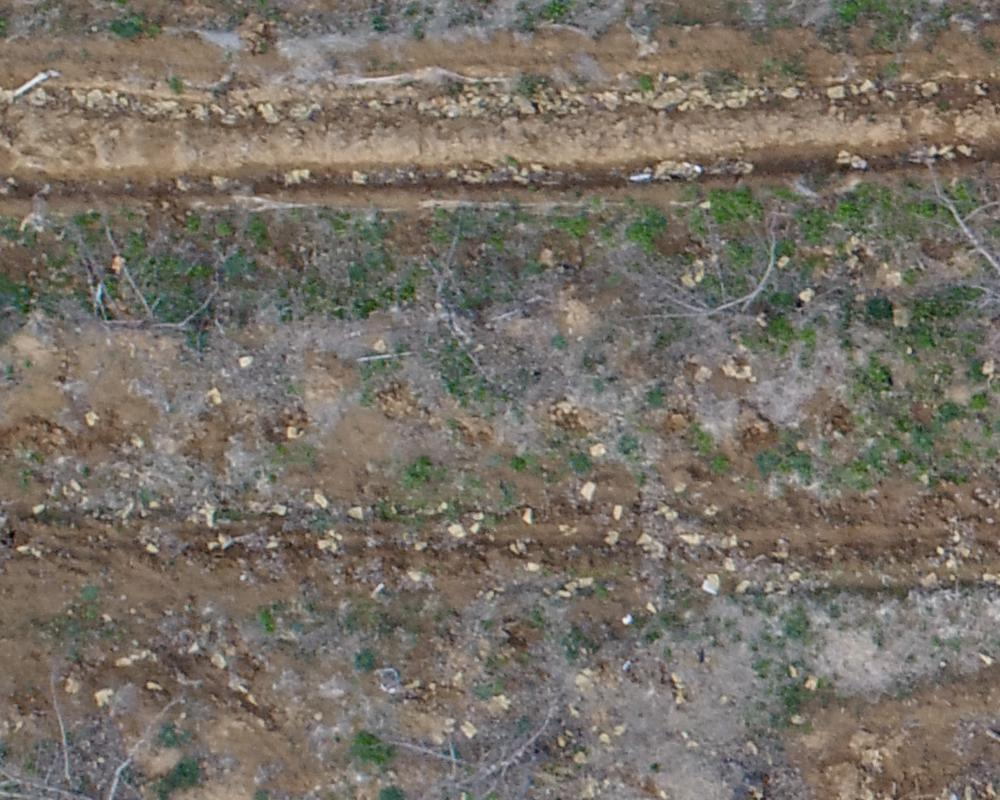apple: (362, 201, 557, 382), (609, 200, 827, 351), (10, 654, 240, 790), (392, 657, 584, 790), (75, 225, 240, 371)
